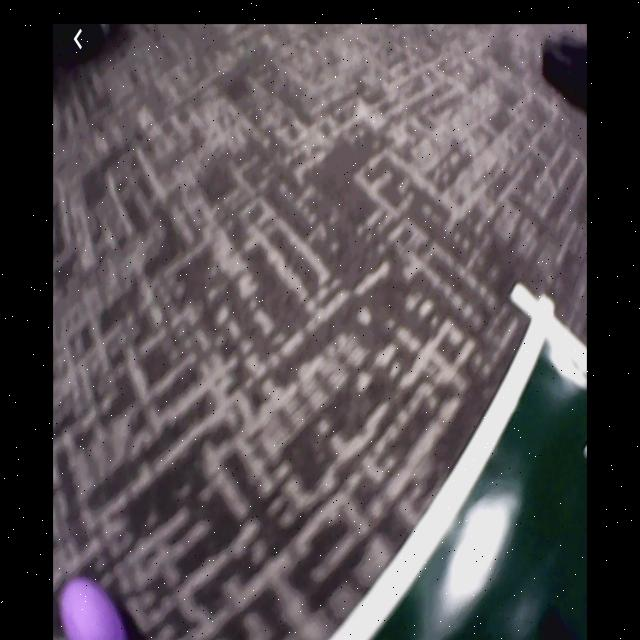ball: (59, 580, 127, 640)
